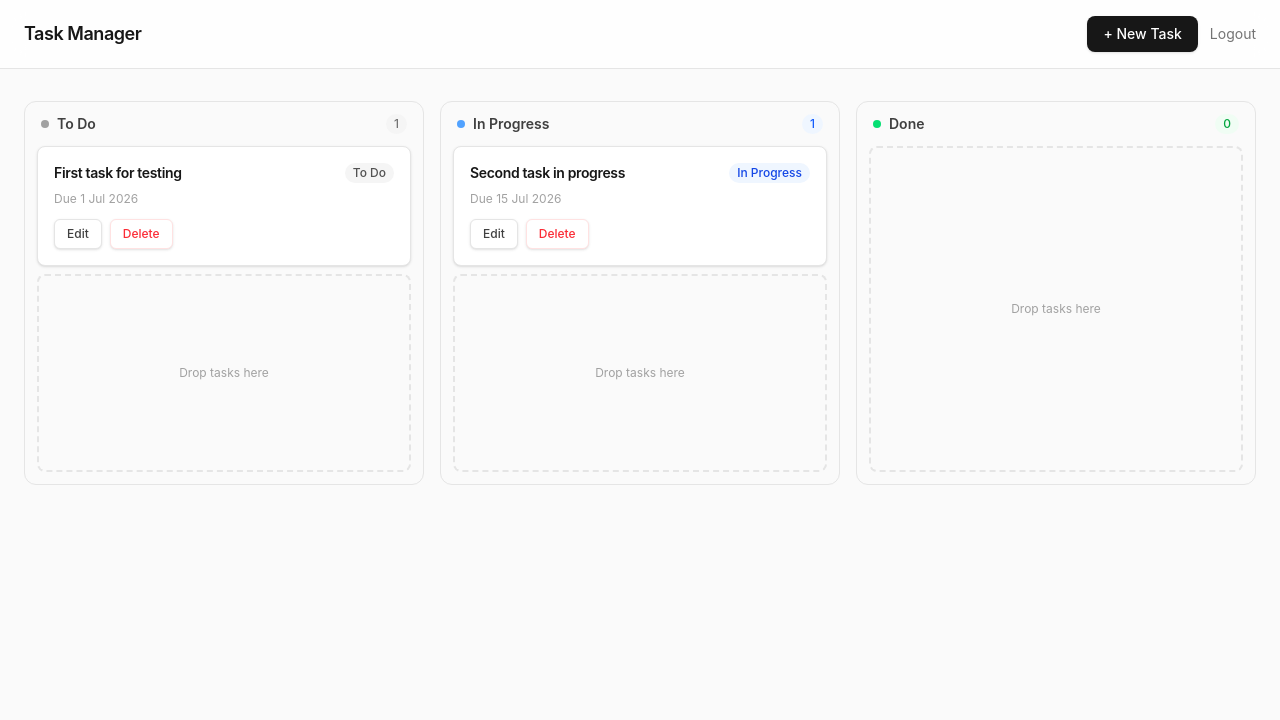
TasksPage › shows an error toast when delete fails
Expected: the heading "First task for testing" is shown, [54, 163, 182, 182]
Click the button "Delete" below "1 Jul 2026" at {"x": 141, "y": 234}, box [110, 219, 173, 249]
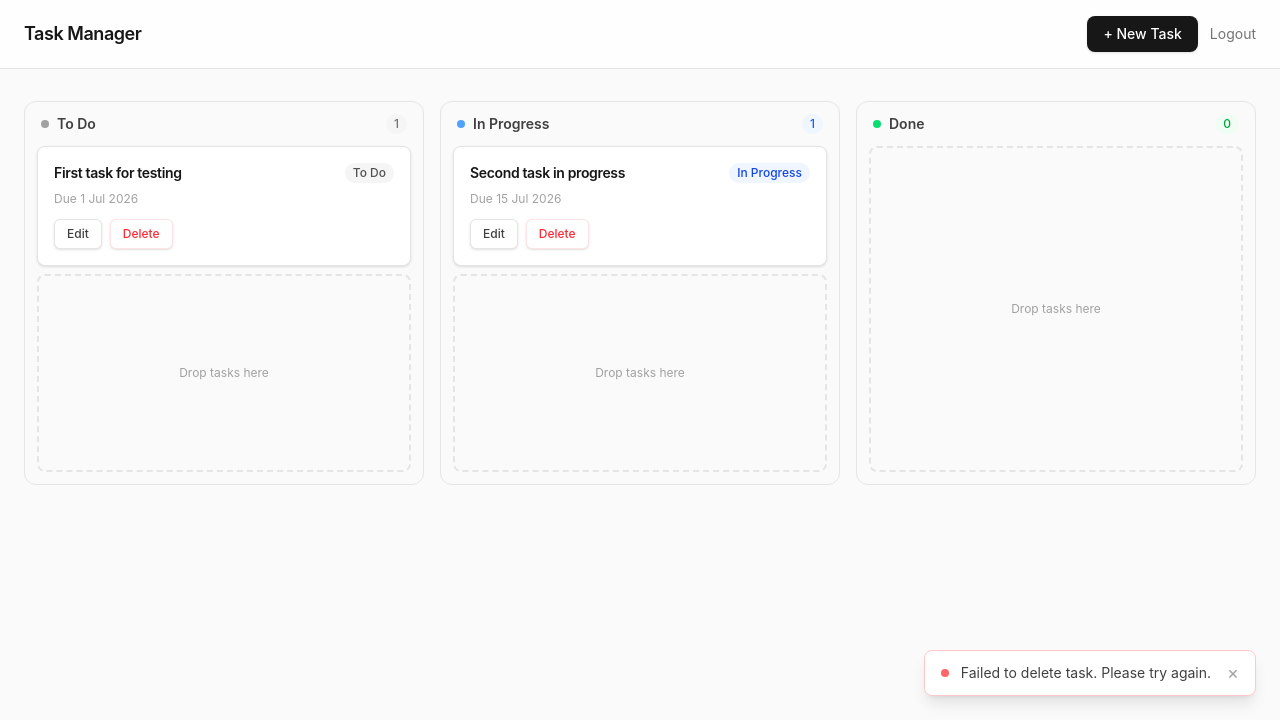
Expected: the text "Failed to delete task. Please try again." is shown, [961, 663, 1211, 683]
